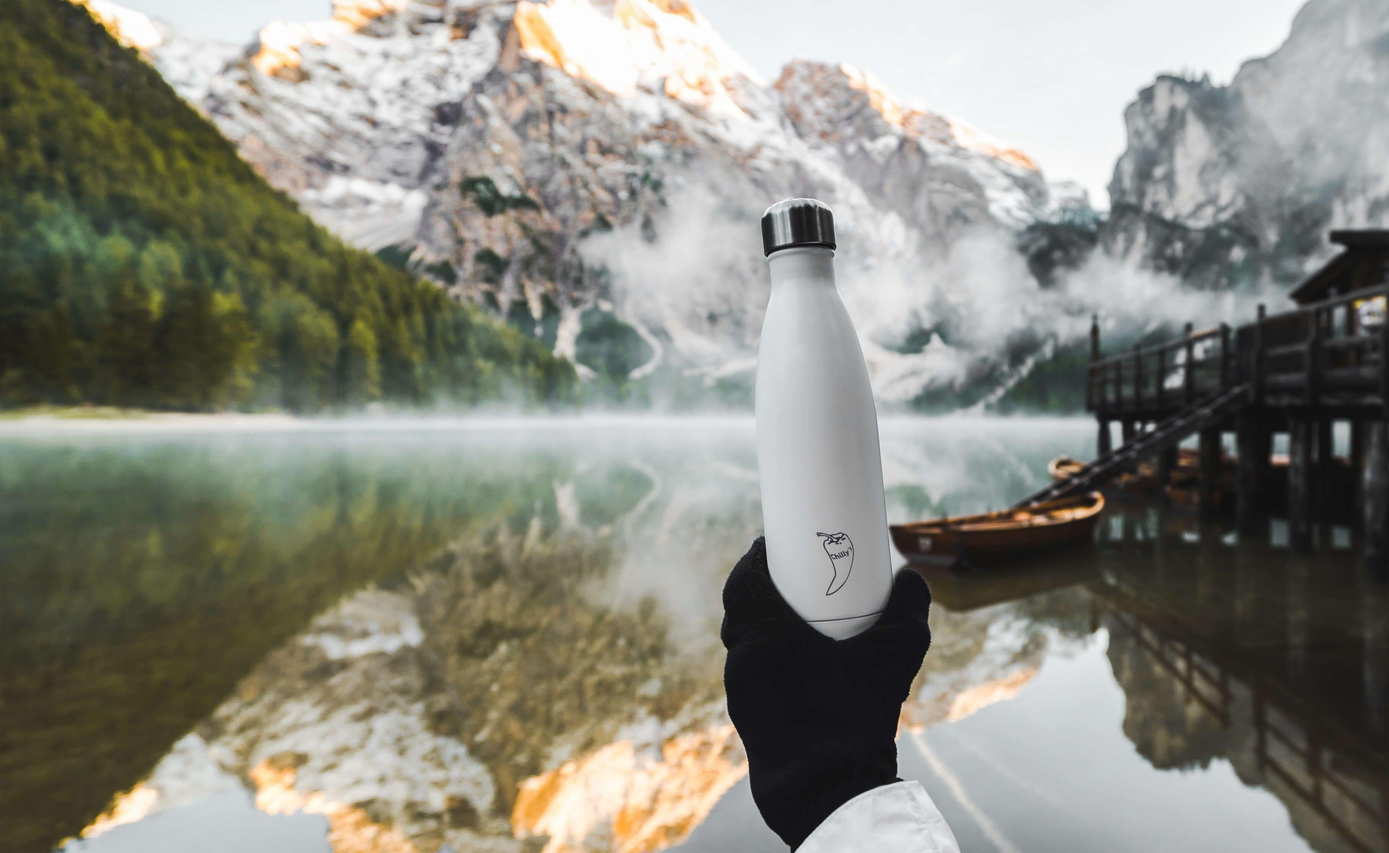gym bottle: (749, 198, 897, 642)
